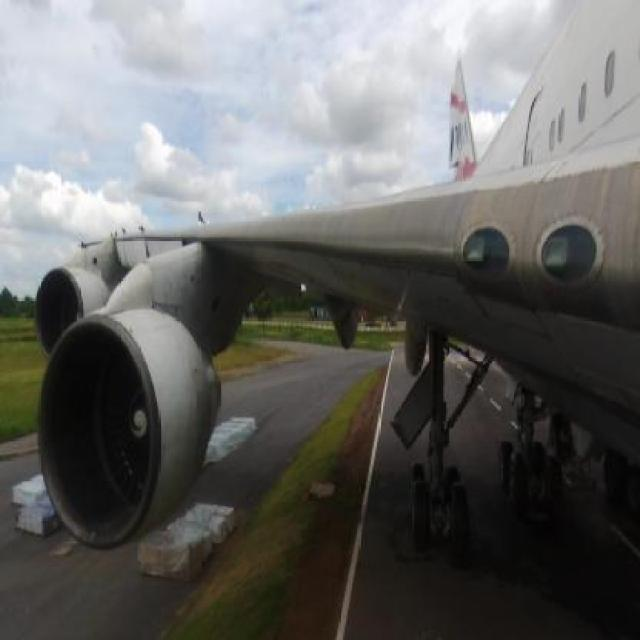Scartch: (322, 258, 460, 314)
